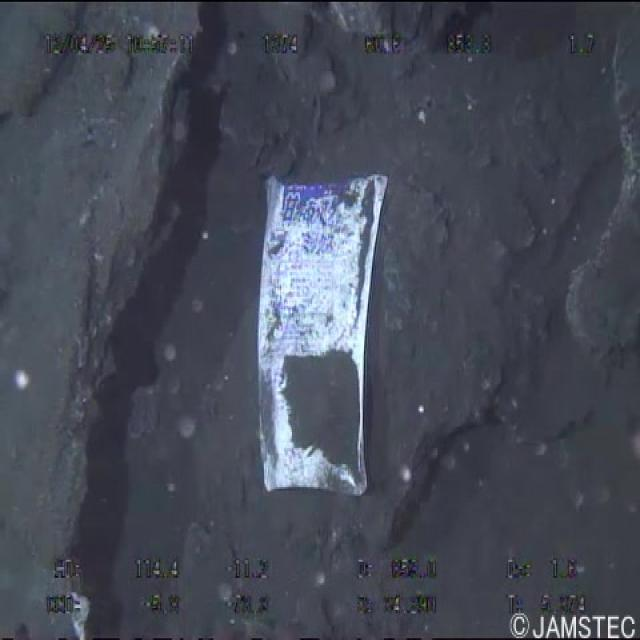plastic: (252, 169, 393, 508)
